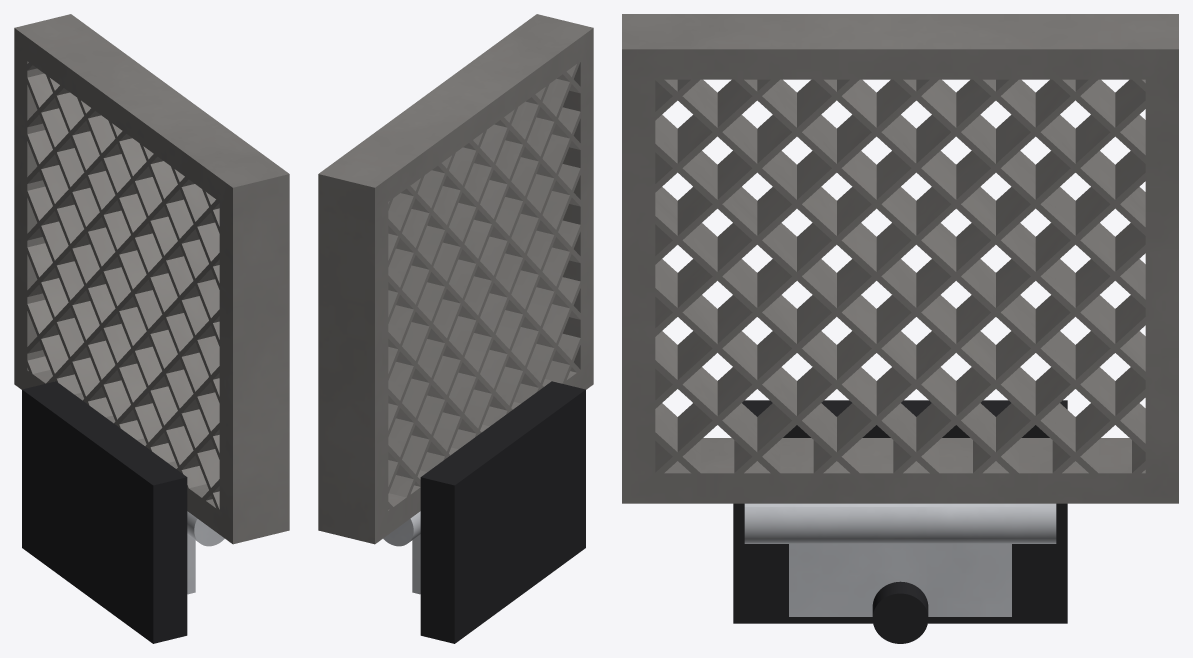
Rendered from stage10_grid_fin_m.glb.
3 renders of one model, left to right at view 1: azimuth 30°, elevation 25°; view 2: azimuth 150°, elevation 25°; view 3: azimuth 270°, elevation 25°, orthographic. The views are drawn at different scales.
Parts seen in each view (by area): view 1: lattice_panel, mount_plate, hinge; view 2: lattice_panel, mount_plate, hinge; view 3: lattice_panel, hinge, mount_plate, actuator.
Boxes of the visible parts, <box> form: lattice_panel: <box>14,14,289,544</box>; mount_plate: <box>22,381,187,643</box>; hinge: <box>187,511,224,594</box>; lattice_panel: <box>318,14,593,544</box>; mount_plate: <box>420,381,585,643</box>; hinge: <box>383,511,420,594</box>; lattice_panel: <box>622,14,1178,503</box>; hinge: <box>744,503,1056,616</box>; mount_plate: <box>733,400,1067,623</box>; actuator: <box>872,581,928,643</box>.
Size of the model in its own units: 0.245 by 1.21 by 1.
3 materials, 2 textured.
